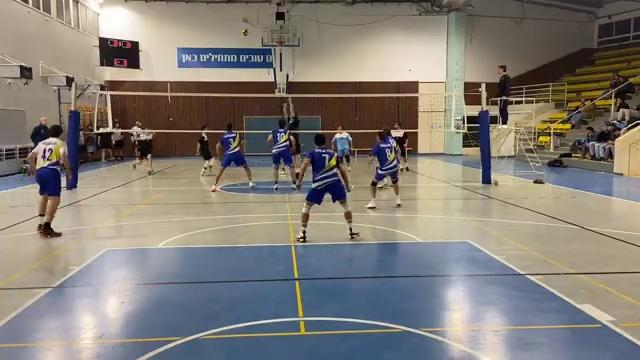ball: (238, 26, 251, 38)
